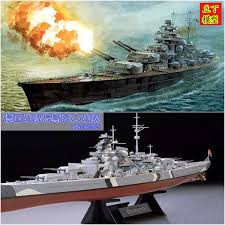tau_muctieu: (1, 128, 212, 205), (25, 25, 216, 96)
